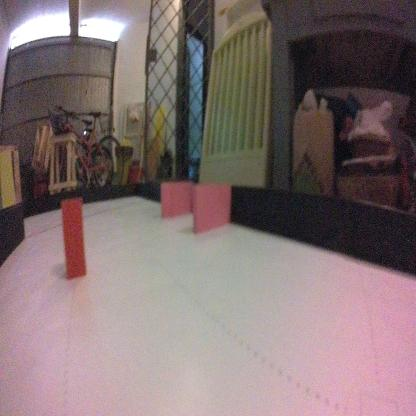magenta: (192, 183, 232, 238), (160, 178, 193, 220)
red: (60, 197, 89, 284)
